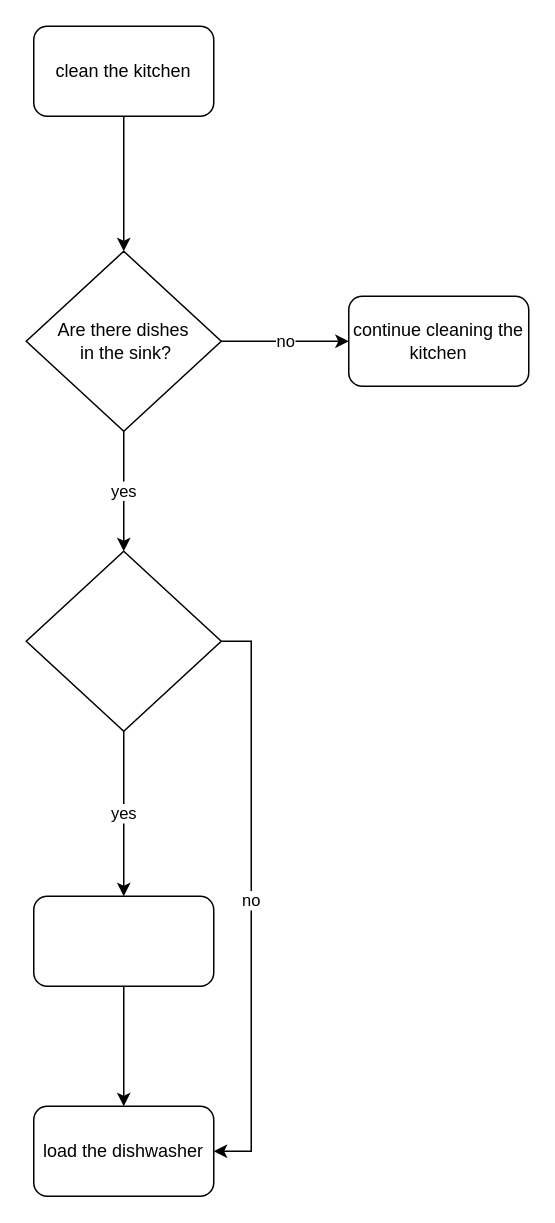
Image size: 555x1223. Some labels were removed from this diagram. The shapes that lost their labels are listed below. From the top down, each one's centre as x and y in pixels, then its label:
point 123,640: Is the dishwasher full of dishes?
point 123,940: unload the dishwasher
